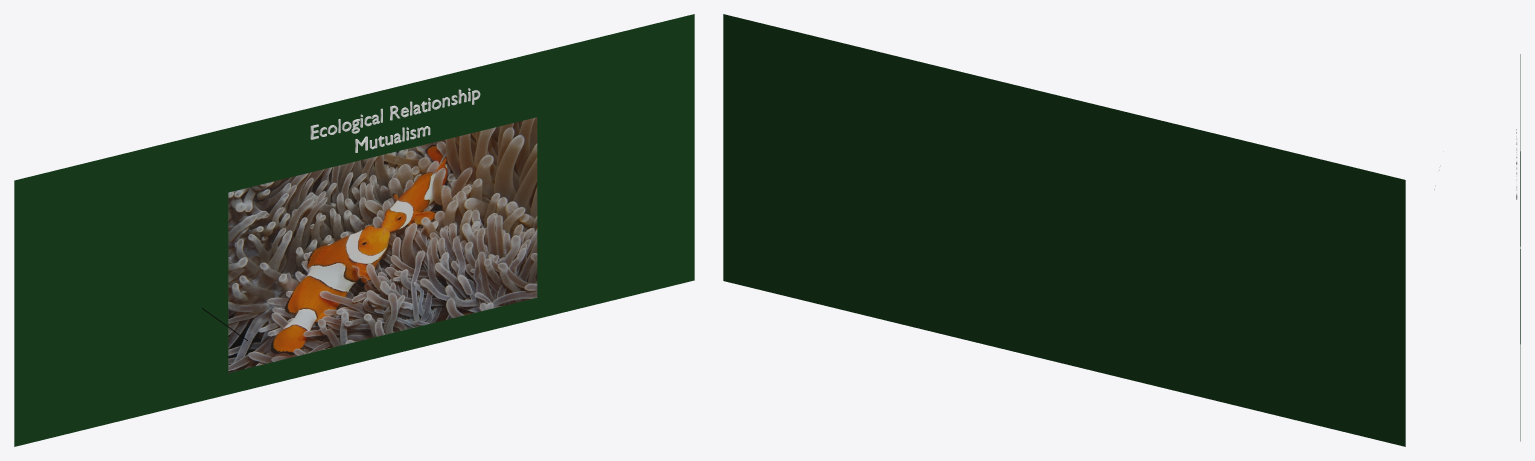
File: mutualism.gltf
3 views of the same model, side by side, from view 1: azimuth 30°, elevation 25°; view 2: azimuth 150°, elevation 25°; view 3: azimuth 270°, elevation 25° (orthographic). The views are drawn at different scales.
Parts seen in each view (by area): view 1: Plane.013, Plane, Text.008; view 2: Plane.013; view 3: Plane.013, Text.008.
Boxes of the visible parts, box(x1,y1,x2,y2) form: Plane.013: box(14, 14, 694, 446); Plane: box(228, 117, 537, 372); Text.008: box(310, 88, 480, 139); Plane.013: box(723, 14, 1405, 446); Plane.013: box(1520, 54, 1520, 441); Text.008: box(1516, 129, 1517, 199).
Bounding box in the file's own units: 15.94 × 5.96 × 2.43.
5 materials, 1 textured.
